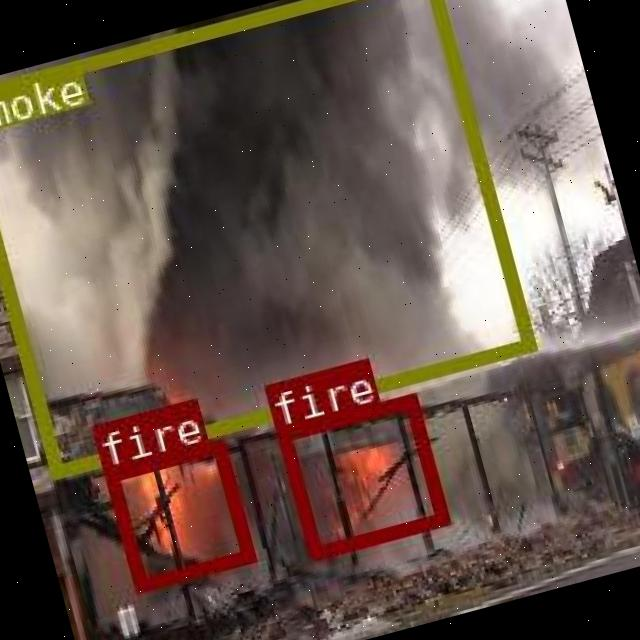fire: (272, 392, 448, 558), (100, 438, 252, 591)
smoke: (0, 0, 532, 476)
